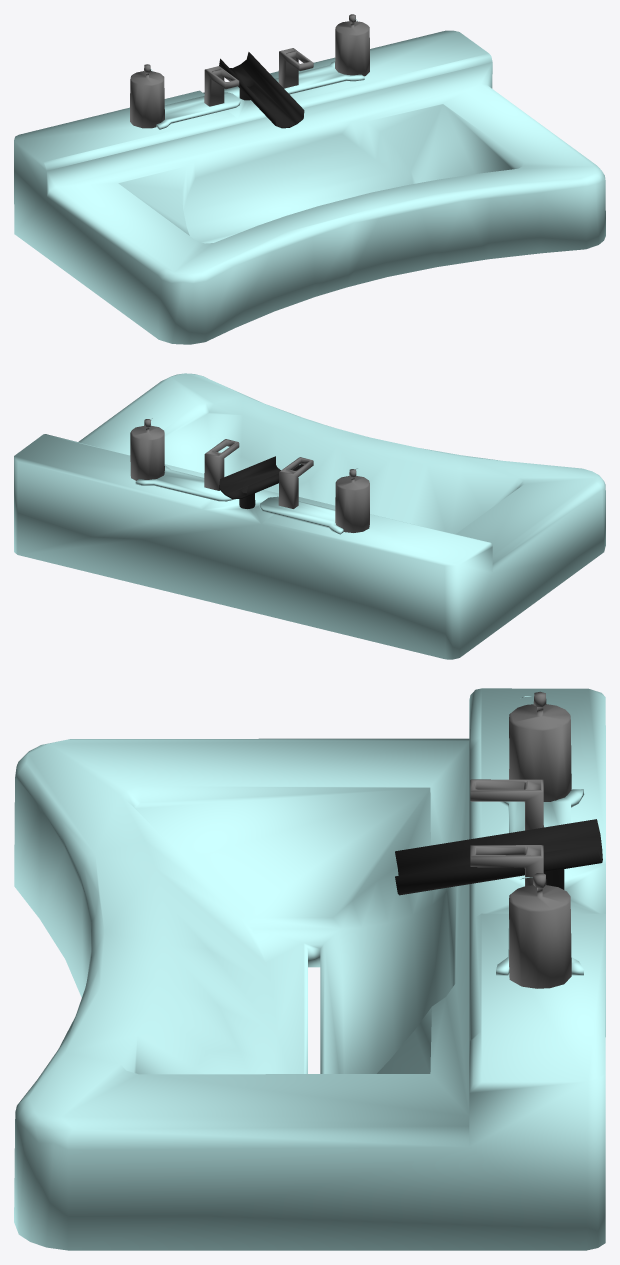
File: Washbasin.fbx
3 renders of one model, top to bottom at view 1: azimuth 30°, elevation 25°; view 2: azimuth 150°, elevation 25°; view 3: azimuth 270°, elevation 25°, orthographic. The views are drawn at different scales.
Parts seen in each view (by area): view 1: Object_0; view 2: Object_0; view 3: Object_0.
Boxes of the visible parts, x1,y1,x2,y2 form: Object_0: (14, 14, 605, 344); Object_0: (14, 373, 605, 659); Object_0: (14, 688, 605, 1250).
Bounding box in the file's own units: 106 × 53 × 166.
